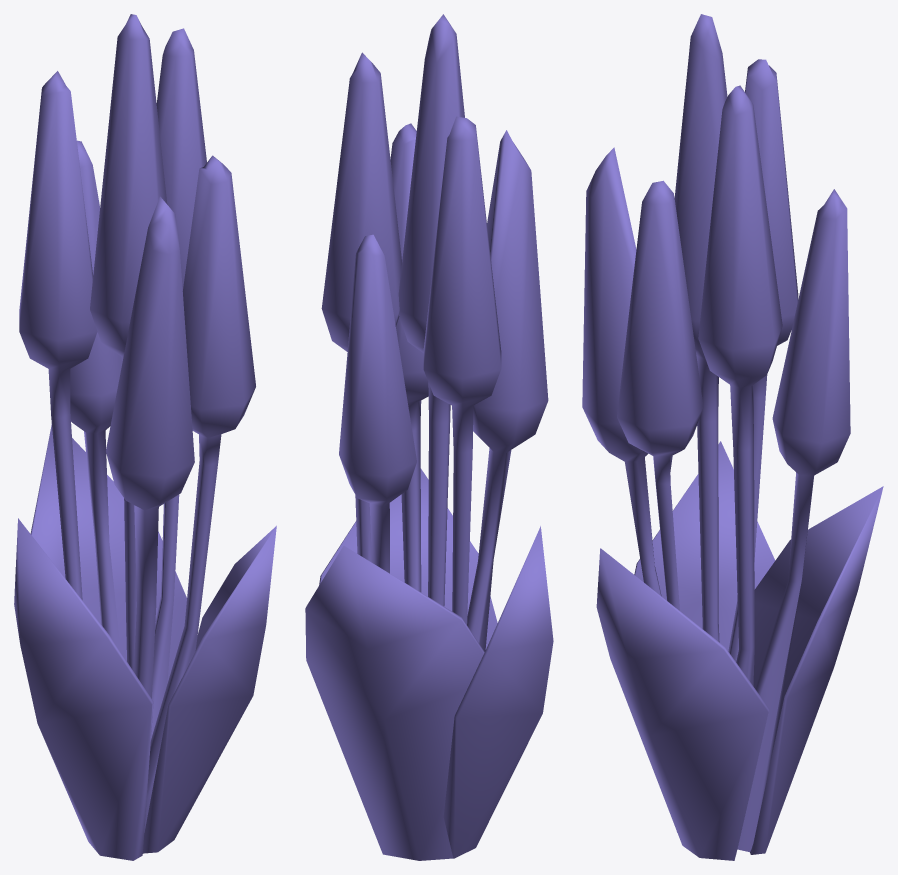
Rendered from Cactus_Leafy_04.fbx.
3 renders of one model, left to right at view 1: azimuth 30°, elevation 25°; view 2: azimuth 150°, elevation 25°; view 3: azimuth 270°, elevation 25°, orthographic.
Parts seen in each view (by area): view 1: Cactus_Leafy_04; view 2: Cactus_Leafy_04; view 3: Cactus_Leafy_04.
Part boxes in pixels (x1,y1,x2,y2): Cactus_Leafy_04: (14, 14, 276, 860); Cactus_Leafy_04: (305, 14, 553, 860); Cactus_Leafy_04: (582, 14, 883, 860).
Size of the model in its own units: 40.92 by 144 by 47.58.
